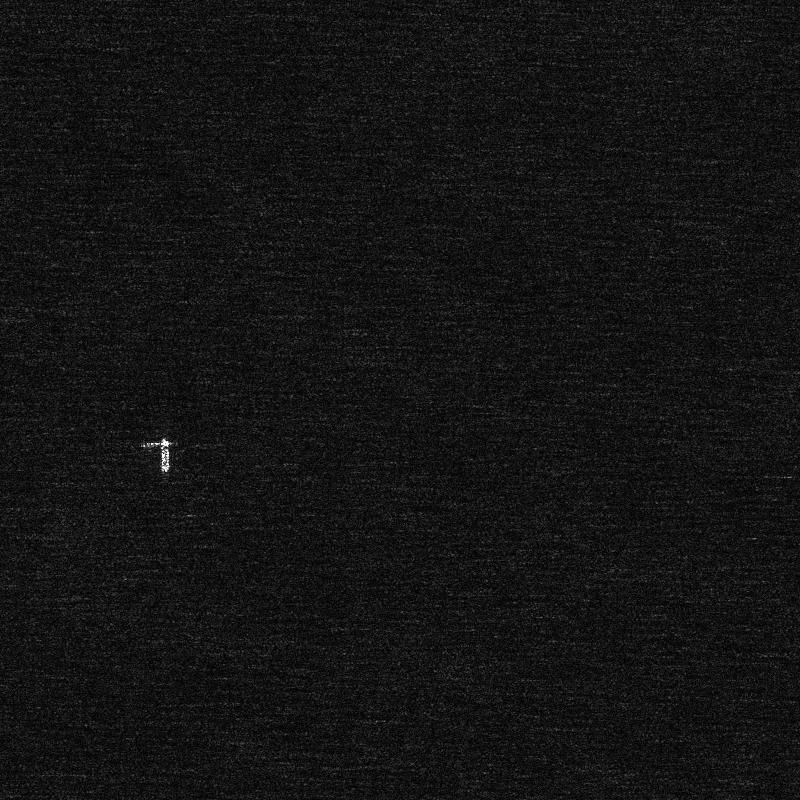ship: (161, 439, 170, 472)
